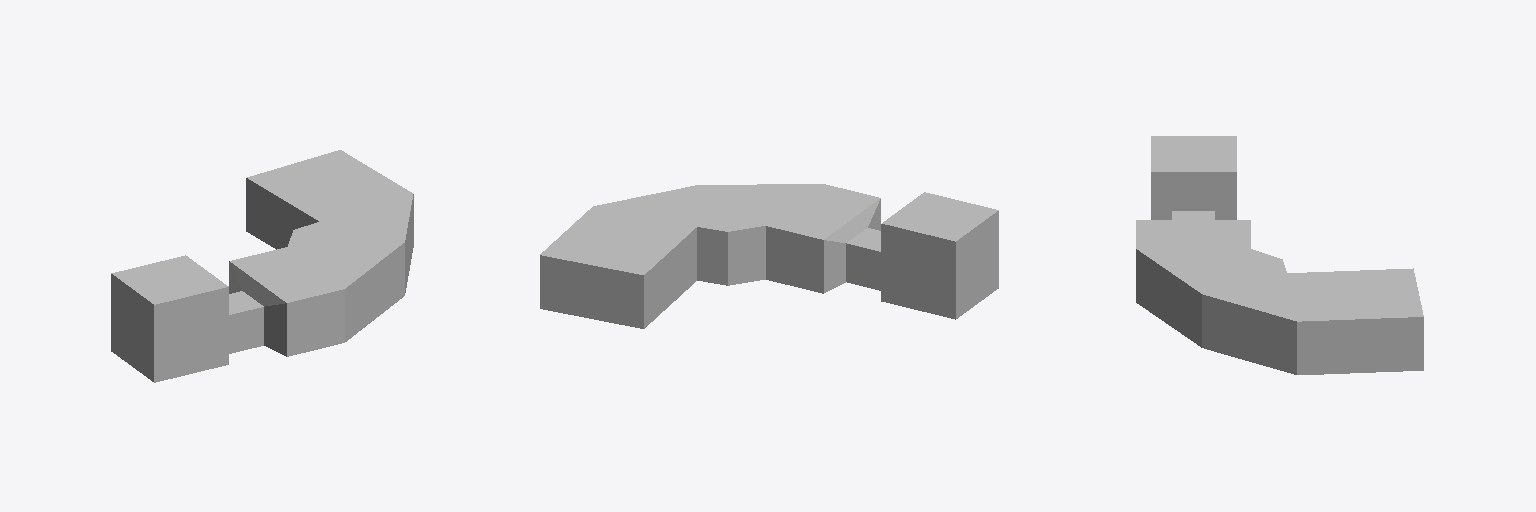
Rendered from room1n.obj.
3 views of the same model, side by side, from view 1: azimuth 30°, elevation 25°; view 2: azimuth 150°, elevation 25°; view 3: azimuth 270°, elevation 25° (orthographic).
Parts seen in each view (by area): view 1: Cube; view 2: Cube; view 3: Cube.
Part boxes in pixels (left/top/right/bottom): Cube: left=111, top=150, right=413, bottom=382; Cube: left=540, top=184, right=998, bottom=328; Cube: left=1136, top=136, right=1423, bottom=374.
Size of the model in its own units: 8.93 by 2 by 6.69.